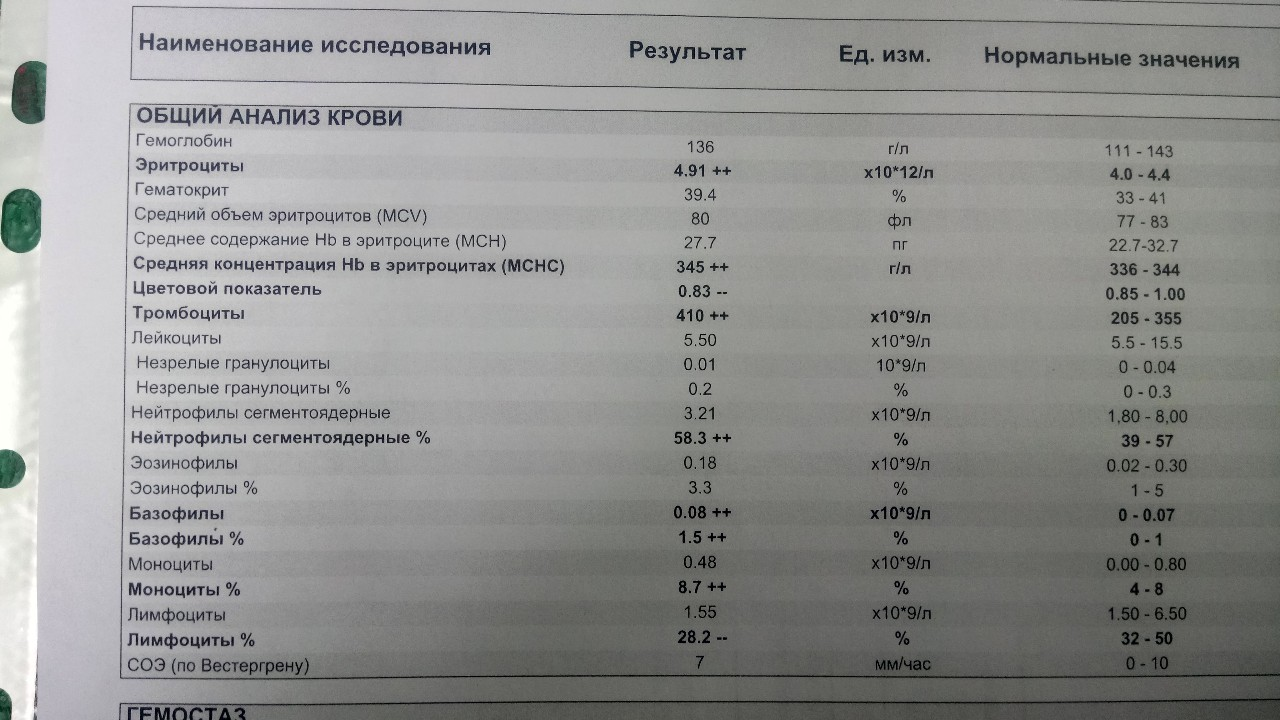column: (126, 130, 565, 675), (1103, 130, 1188, 675), (862, 130, 934, 675), (672, 130, 732, 675), (139, 32, 490, 69), (984, 32, 1239, 69), (629, 32, 746, 69), (839, 32, 930, 69)
